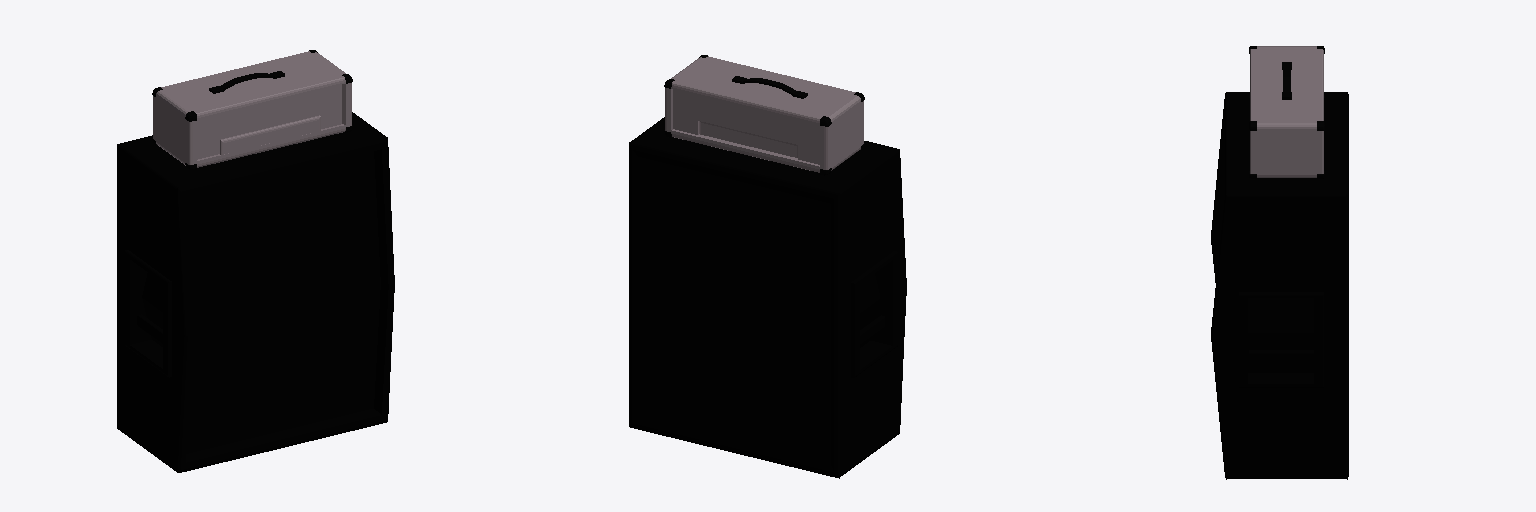
Rendered from ampli.obj.
The picture shows the model from 3 angles: view 1: azimuth 30°, elevation 25°; view 2: azimuth 150°, elevation 25°; view 3: azimuth 270°, elevation 25°; orthographic projection.
Visible parts, largest first — view 1: ampli_1_Cube, ampli_2_Cube.001; view 2: ampli_1_Cube, ampli_2_Cube.001; view 3: ampli_1_Cube, ampli_2_Cube.001.
Boxes of the visible parts, x1=… form: ampli_1_Cube: x1=117, y1=112, x2=394, y2=472; ampli_2_Cube.001: x1=152, y1=50, x2=352, y2=170; ampli_1_Cube: x1=629, y1=117, x2=906, y2=478; ampli_2_Cube.001: x1=664, y1=55, x2=864, y2=175; ampli_1_Cube: x1=1211, y1=92, x2=1348, y2=479; ampli_2_Cube.001: x1=1249, y1=46, x2=1324, y2=178.
Size of the model in its own units: 4.05 by 6.31 by 2.22.